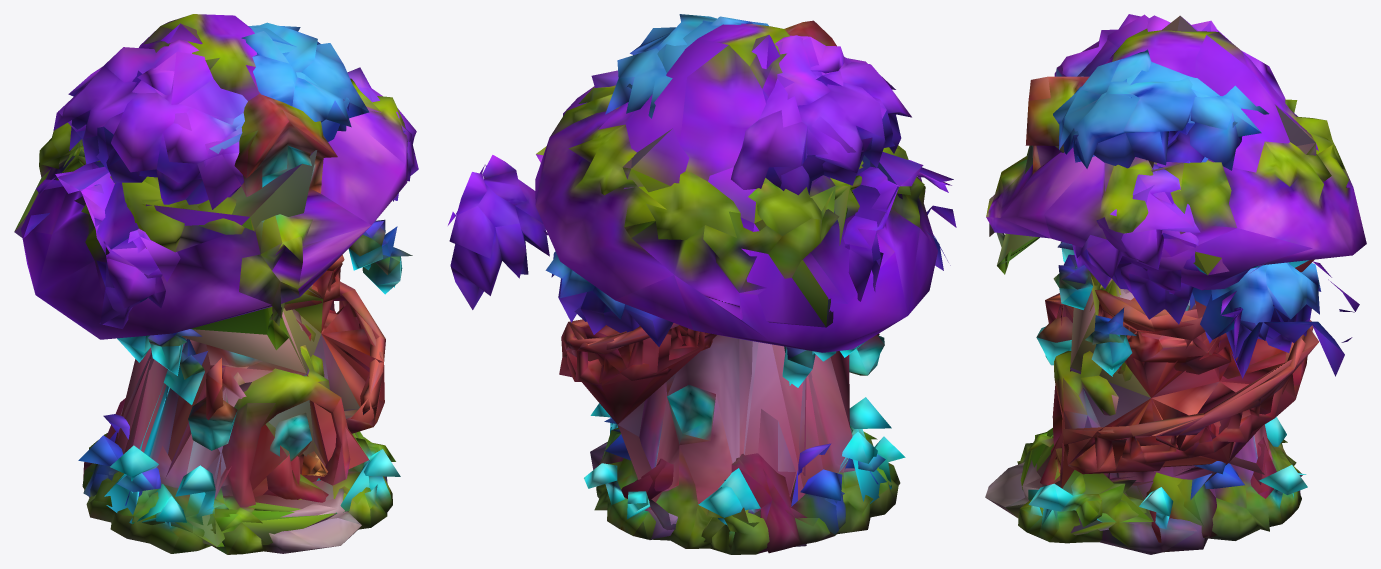
File: flo-casa.glb
The picture shows the model from 3 angles, left to right: view 1: azimuth 30°, elevation 25°; view 2: azimuth 150°, elevation 25°; view 3: azimuth 270°, elevation 25°; orthographic projection. The views are drawn at different scales.
Visible parts, largest first — view 1: cogumelo-casa, arvore2, cogumelo-casa-lod, arvore2-lod; view 2: cogumelo-casa, arvore2, cogumelo-casa-lod, arvore2-lod; view 3: cogumelo-casa, arvore2, cogumelo-casa-lod, arvore2-lod.
Boxes of the visible parts, bbox=[...] form: cogumelo-casa: bbox=[21, 14, 408, 554]; arvore2: bbox=[23, 22, 418, 505]; cogumelo-casa-lod: bbox=[14, 23, 387, 546]; arvore2-lod: bbox=[38, 25, 413, 499]; cogumelo-casa: bbox=[448, 20, 937, 554]; arvore2: bbox=[545, 14, 956, 553]; cogumelo-casa-lod: bbox=[456, 34, 902, 542]; arvore2-lod: bbox=[560, 20, 953, 553]; cogumelo-casa: bbox=[985, 28, 1366, 554]; arvore2: bbox=[1040, 14, 1321, 542]; cogumelo-casa-lod: bbox=[997, 15, 1318, 535]; arvore2-lod: bbox=[1055, 14, 1302, 537].
Bounding box in the file's own units: 0.8355 × 1.01 × 0.765.
1 material, 1 textured.
